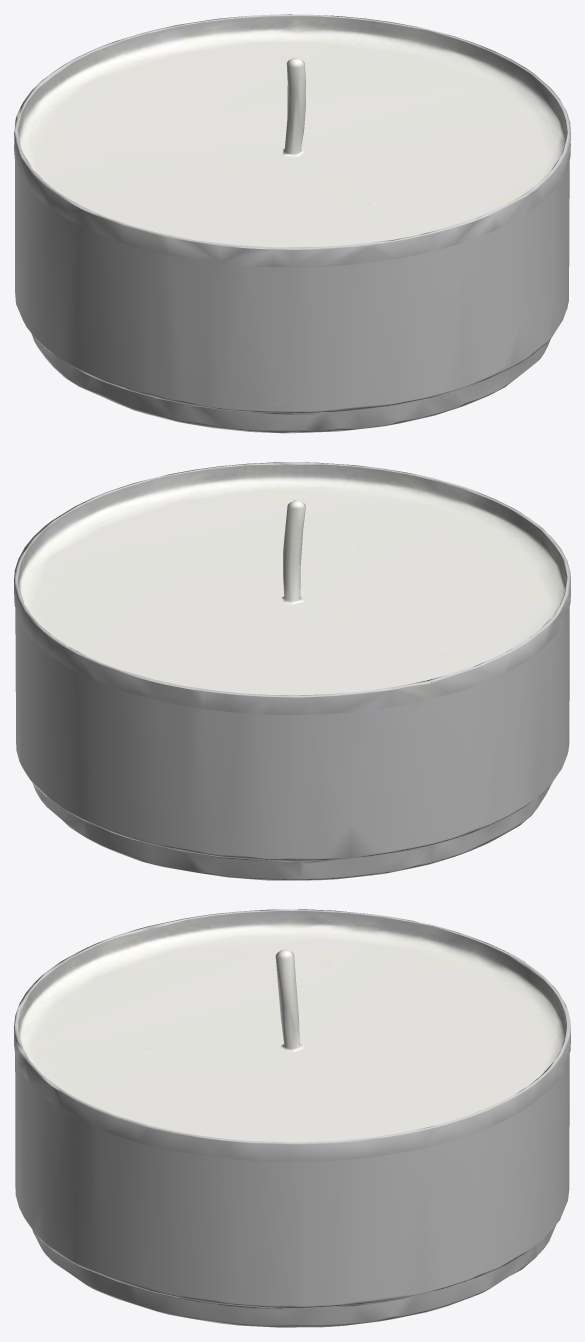
3 renders of one model, top to bottom at view 1: azimuth 30°, elevation 25°; view 2: azimuth 150°, elevation 25°; view 3: azimuth 270°, elevation 25°, orthographic.
Visible parts, largest first — view 1: ProcessedMeshNode; view 2: ProcessedMeshNode; view 3: ProcessedMeshNode.
Boxes of the visible parts, x1,y1,x2,y2 form: ProcessedMeshNode: (14,14,570,433); ProcessedMeshNode: (14,462,570,880); ProcessedMeshNode: (14,909,570,1327).
Size of the model in its own units: 0.0392 by 0.0209 by 0.0392.
1 material, 1 textured.
